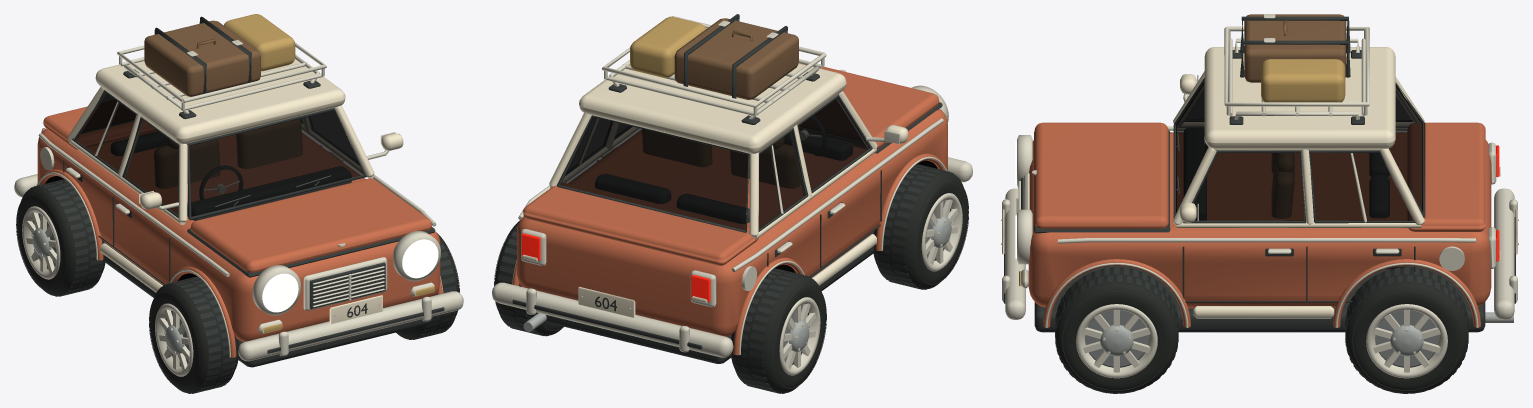
File: drive-car.glb
3 views of the same model, side by side, from view 1: azimuth 30°, elevation 25°; view 2: azimuth 150°, elevation 25°; view 3: azimuth 270°, elevation 25° (orthographic). The views are drawn at different scales.
Visible parts, largest first — view 1: car_body, car_glass, wheel_FL_mesh, wheel_RL_mesh, car_headlights, wheel_FR_mesh; view 2: car_body, car_glass, wheel_RL_mesh, wheel_FL_mesh, wheel_RR_mesh, car_brake_lights; view 3: car_body, car_glass, wheel_FR_mesh, wheel_RR_mesh.
Part boxes in pixels (x1,y1,x2,y2): car_body: [14, 14, 463, 367]; car_glass: [74, 92, 395, 216]; wheel_FL_mesh: [149, 276, 238, 393]; wheel_RL_mesh: [16, 179, 105, 296]; car_headlights: [262, 239, 438, 312]; wheel_FR_mesh: [396, 232, 459, 339]; car_body: [492, 14, 972, 363]; car_glass: [560, 98, 899, 230]; wheel_RL_mesh: [730, 268, 826, 393]; wheel_FL_mesh: [872, 164, 968, 289]; wheel_RR_mesh: [494, 220, 563, 336]; car_brake_lights: [521, 233, 710, 302]; car_body: [1001, 14, 1518, 332]; car_glass: [1176, 75, 1422, 220]; wheel_FR_mesh: [1055, 267, 1178, 393]; wheel_RR_mesh: [1345, 267, 1468, 393].
Size of the model in its own units: 1.73 by 1.64 by 2.64.
